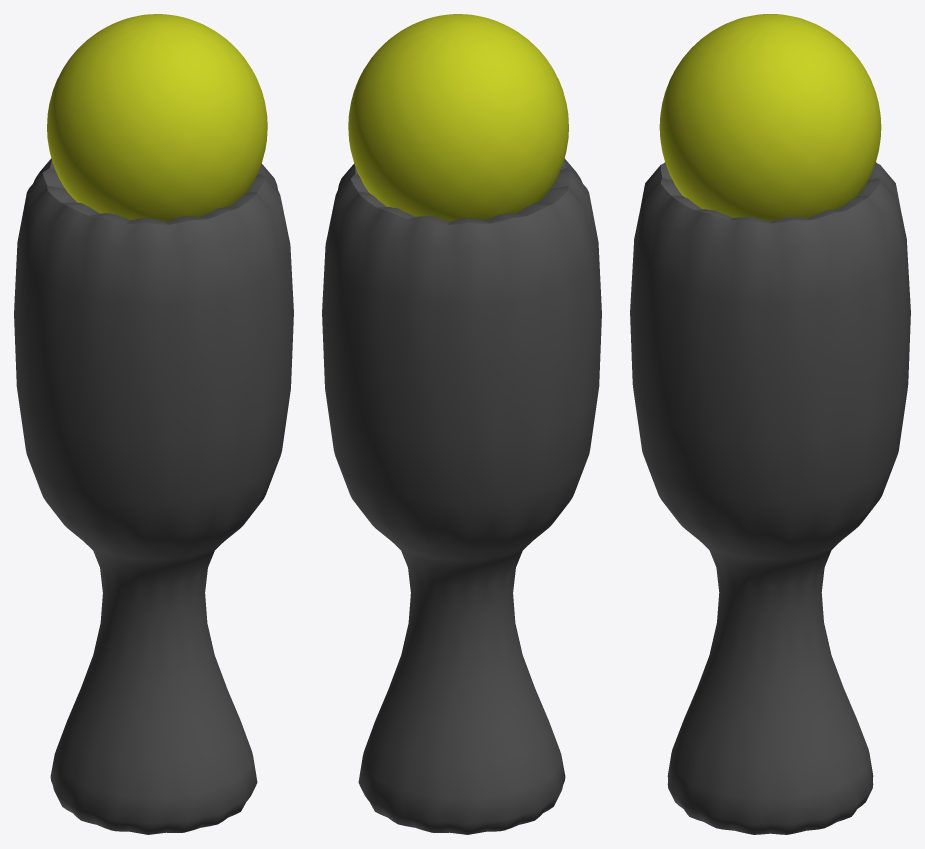
Rendered from Lights 10.fbx.
3 renders of one model, left to right at view 1: azimuth 30°, elevation 25°; view 2: azimuth 150°, elevation 25°; view 3: azimuth 270°, elevation 25°, orthographic.
Parts seen in each view (by area): view 1: Cylinder, Sphere; view 2: Cylinder, Sphere; view 3: Cylinder, Sphere.
Boxes of the visible parts, x1,y1,x2,y2 form: Cylinder: [14, 158, 293, 834]; Sphere: [47, 14, 267, 221]; Cylinder: [322, 158, 601, 834]; Sphere: [348, 14, 568, 221]; Cylinder: [630, 162, 910, 834]; Sphere: [659, 14, 881, 221].
Bounding box in the file's own units: 95.72 × 294 × 95.72.
